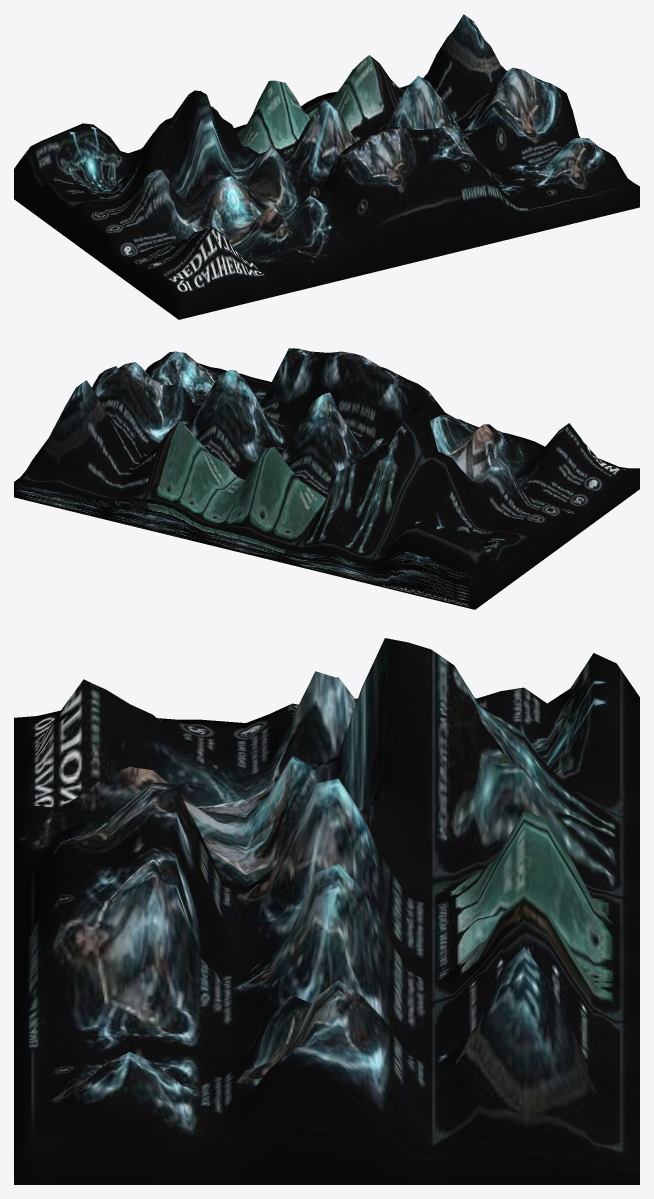
The model's file is CUL_01_Qi_Gathering_Meditation.glb.
3 views of the same model, one above another, from view 1: azimuth 30°, elevation 25°; view 2: azimuth 150°, elevation 25°; view 3: azimuth 270°, elevation 25° (orthographic). The views are drawn at different scales.
Visible parts, largest first — view 1: CUL_01_Qi_Gathering_Meditation; view 2: CUL_01_Qi_Gathering_Meditation; view 3: CUL_01_Qi_Gathering_Meditation.
Boxes of the visible parts, x1,y1,x2,y2 form: CUL_01_Qi_Gathering_Meditation: [14, 14, 639, 319]; CUL_01_Qi_Gathering_Meditation: [14, 348, 639, 609]; CUL_01_Qi_Gathering_Meditation: [14, 638, 639, 1184].
Bounding box in the file's own units: 2 × 0.51 × 1.24.
Materials: 1 (1 with a texture image).
